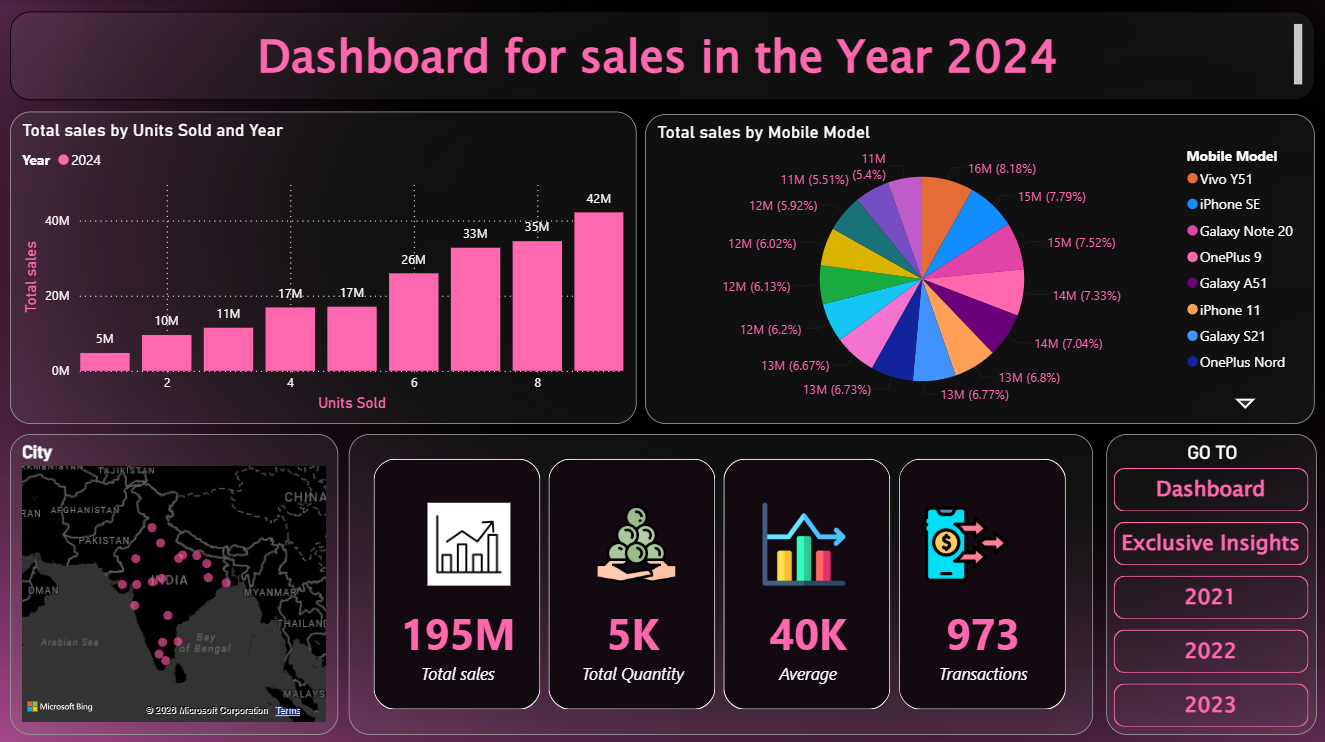

The page's visual inventory and layout, read from the dashboard file:
{"tool":"powerbi","page":{"name":"2024","canvas":[1280,720],"ordinal":5},"visuals":[{"type":"textbox","box":[9.7,12.1,1259.5,85.7],"z":0},{"type":"columnChart","fields":{"Y":["Sales_data.Total sales"],"Category":["Sales_data.Units Sold"],"Series":["Sales_data.Date.Variation.Date Hierarchy.Year"]},"box":[9.7,108.6,604.4,301.6],"z":1000},{"type":"pieChart","fields":{"Category":["Sales_data.Mobile Model"],"Y":["Sales_data.Total sales"]},"box":[622.5,111,646.7,299.2],"z":2000},{"type":"map","fields":{"Category":["Sales_data.City"]},"box":[10,420,317.1,290],"z":3000},{"type":"cardVisual","fields":{"Data":["Sales_data.Total sales","Sales_data.Total Quantity","Sales_data.Average","Sales_data.Transactions"]},"box":[337.1,420,718.6,290],"z":4000},{"type":"pageNavigator","title":"GO TO","box":[1067.1,420,202.9,290],"z":5000},{"type":"image","box":[574.3,485.7,80,80],"z":6000},{"type":"image","box":[735.7,485.7,80,80],"z":7000},{"type":"image","box":[892.9,485.7,80,80],"z":8000},{"type":"image","box":[412.9,485.7,80,80],"z":9000},{"type":"image","box":[412.9,485.7,80,80],"z":10000}]}

Visuals, with their boxes in screenshot pixels (x1, y1, x2, y2), scaled from the page's 1280x720 canvas onto the 1325x742 screenshot:
textbox: [10,12,1314,101]
columnChart - Sales_data.Total sales x Sales_data.Units Sold: [10,112,636,423]
pieChart - Sales_data.Mobile Model x Sales_data.Total sales: [644,114,1314,423]
map - Sales_data.City: [10,433,339,732]
cardVisual - Sales_data.Total sales x Sales_data.Total Quantity: [349,433,1093,732]
"GO TO" pageNavigator: [1105,433,1315,732]
image: [594,501,677,583]
image: [762,501,844,583]
image: [924,501,1007,583]
image: [427,501,510,583]
image: [427,501,510,583]
